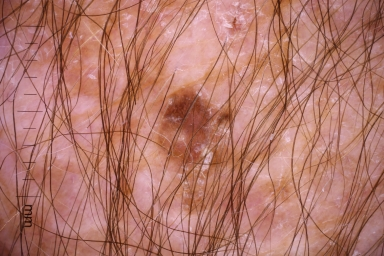melanoma: (159, 91, 224, 157)
